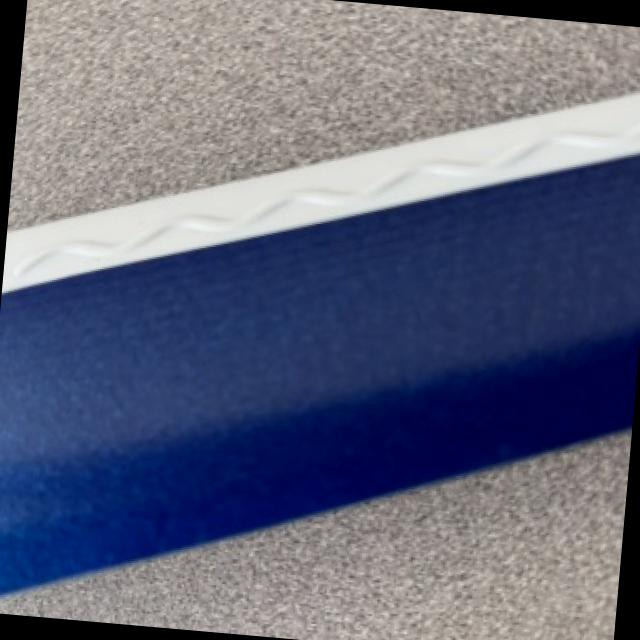healthy: (0, 428, 630, 640)
